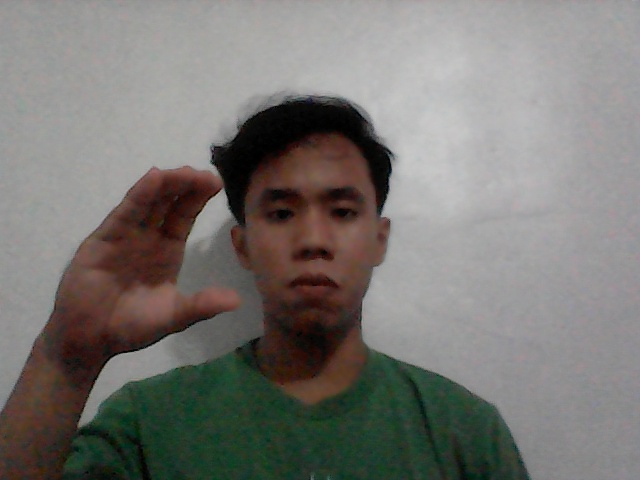C: (42, 149, 248, 380)
